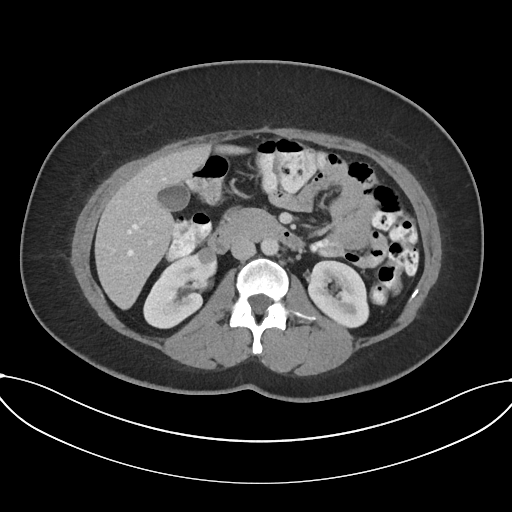Lesion: (194, 244, 218, 266)
